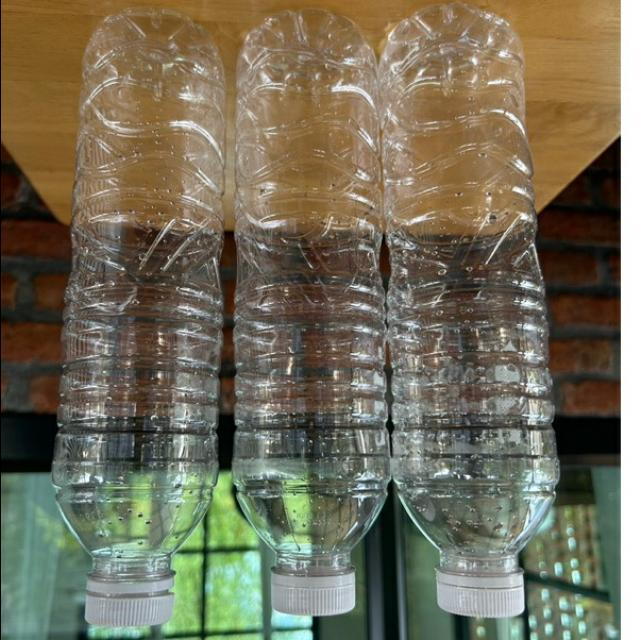plastik: (377, 3, 558, 617), (51, 9, 223, 625), (232, 10, 389, 616)
